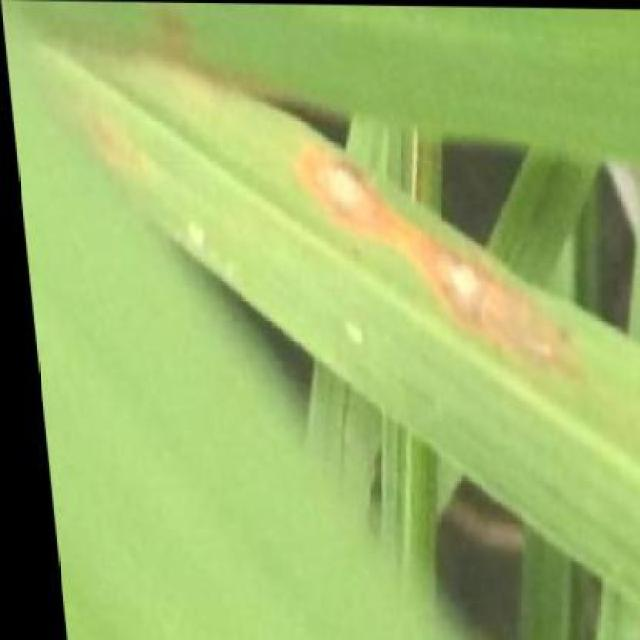Bacterial_Leaf_Blight: (410, 232, 588, 391), (290, 138, 396, 250)
